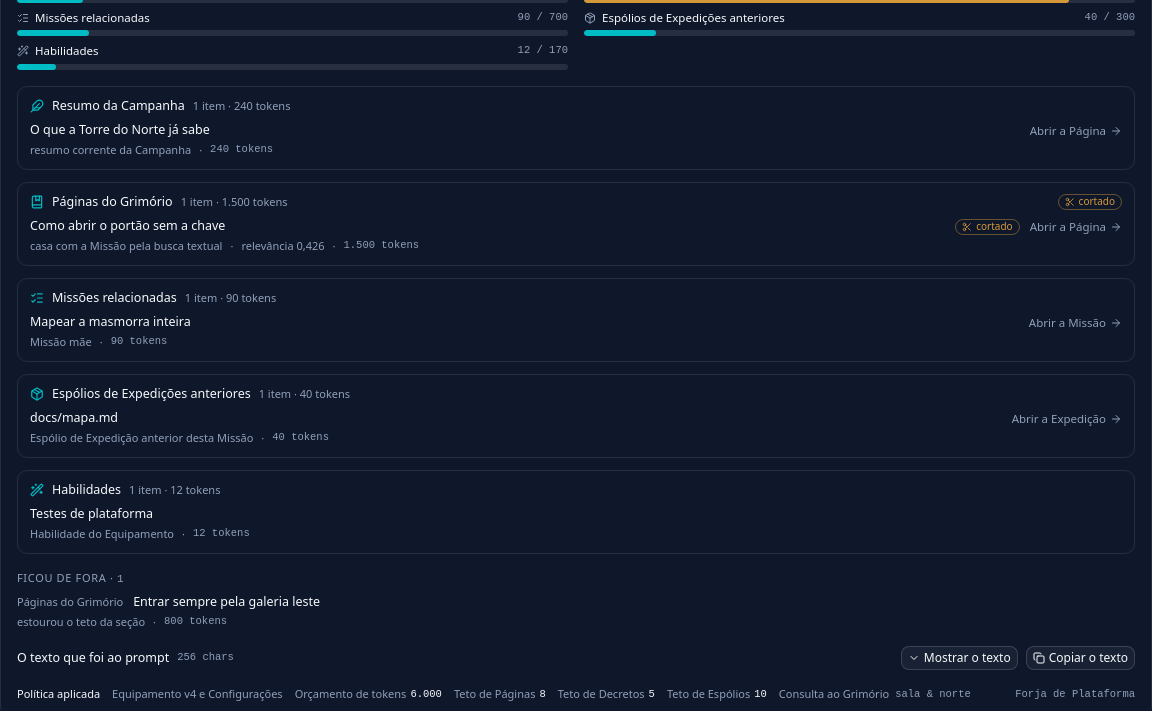
Test case: as provisões da Expedição › o texto do bloco fica recolhido, abre como texto puro e tem botão de copiar
(page scrolled)
Click the button "Mostrar o texto" at (959, 658), box left=901, top=646, right=1018, bottom=670
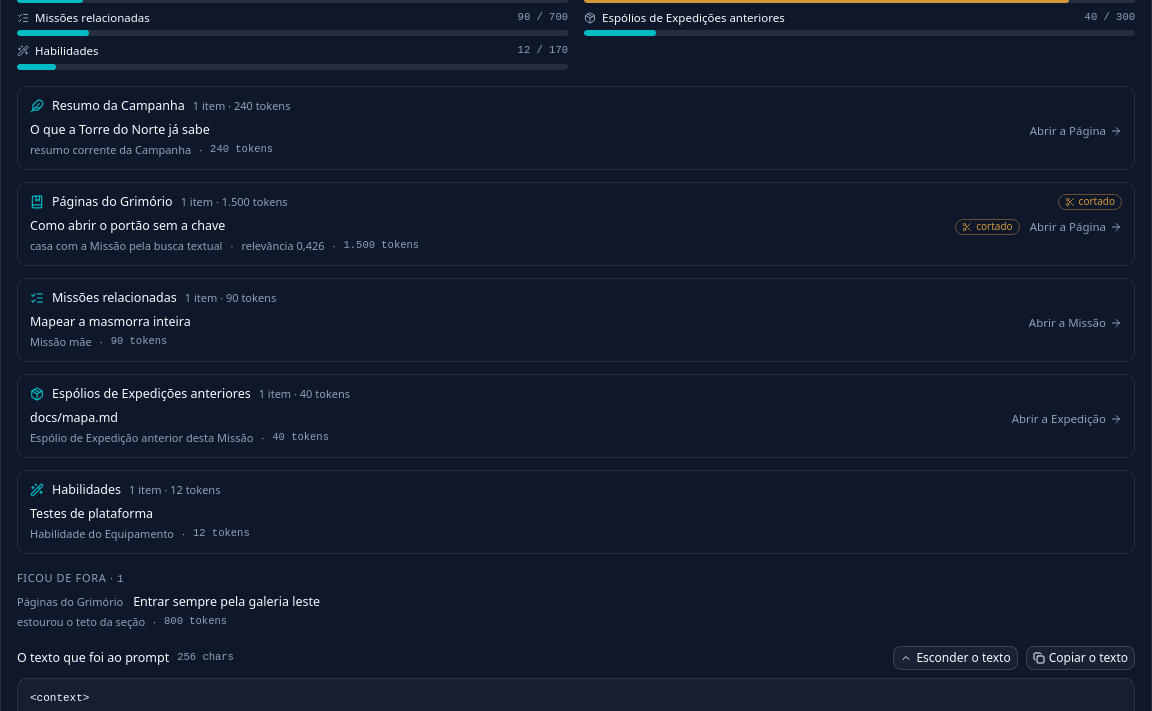
Click the button "Copiar o texto" at (1080, 658), box left=1026, top=646, right=1135, bottom=670
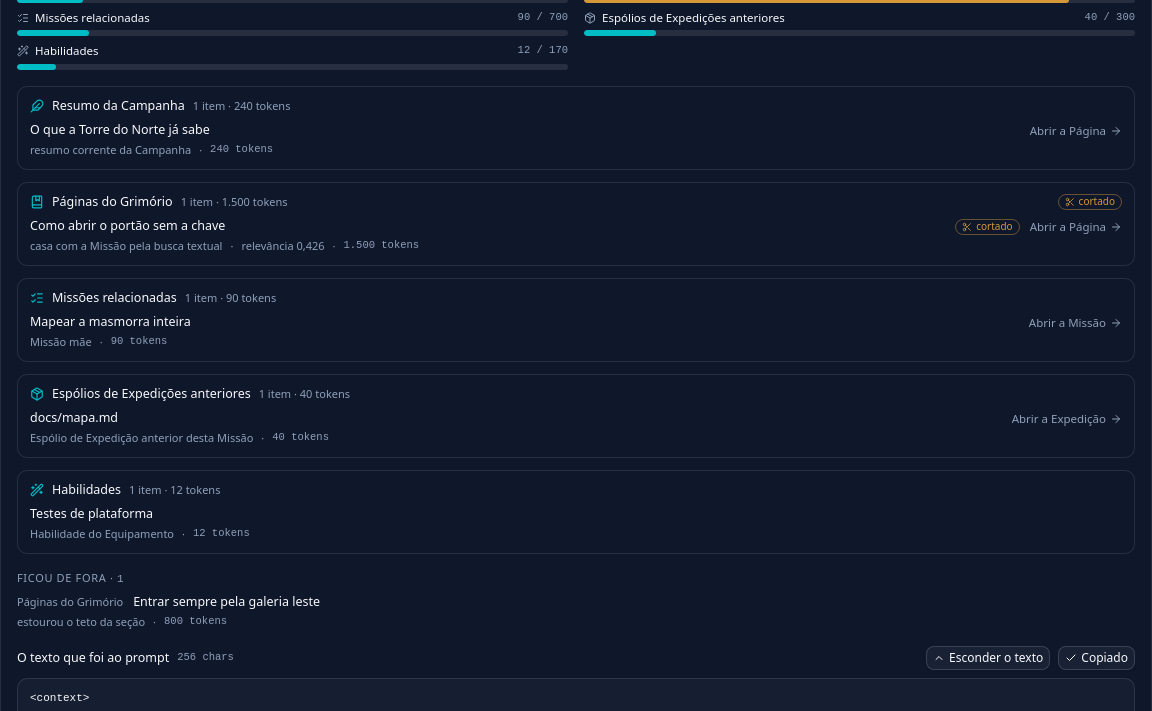
expect the button "Copiado" is shown: met, box left=1058, top=646, right=1135, bottom=670
